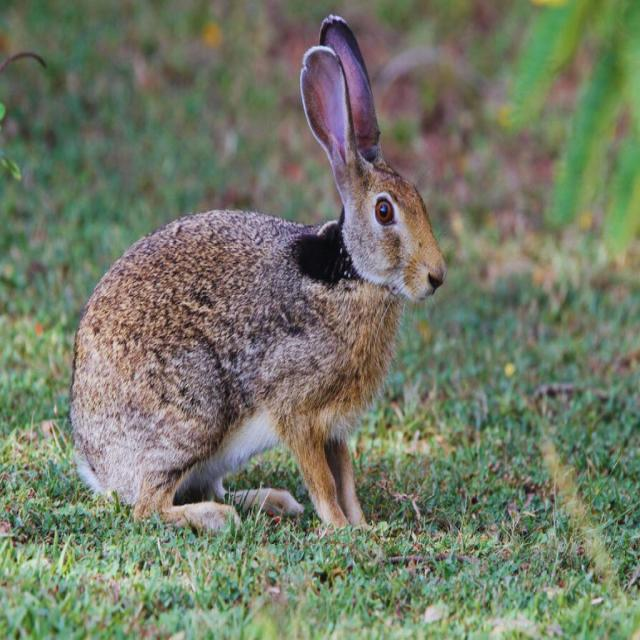Hare: (66, 8, 451, 549)
